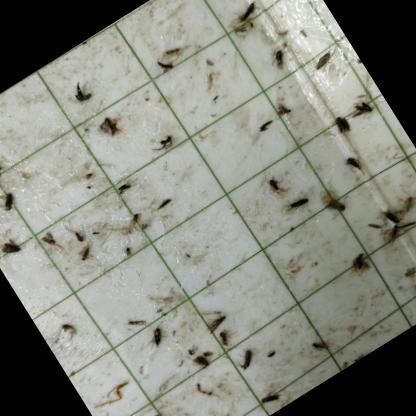prays_oleae: (190, 294, 234, 340), (226, 337, 264, 378), (321, 182, 358, 223), (346, 249, 379, 290), (346, 88, 379, 127), (235, 0, 268, 35), (52, 315, 86, 347), (336, 149, 368, 183), (303, 329, 334, 364), (66, 75, 97, 110), (284, 190, 316, 223), (378, 217, 410, 250), (254, 112, 285, 146), (0, 227, 27, 266), (37, 224, 66, 258), (254, 382, 284, 414), (266, 43, 294, 76), (308, 44, 338, 73), (122, 309, 148, 338), (158, 129, 184, 157), (395, 190, 416, 221), (146, 325, 170, 351), (378, 196, 404, 220), (75, 241, 99, 266), (0, 191, 24, 215), (190, 350, 212, 375), (214, 326, 235, 352), (0, 205, 10, 247), (352, 342, 372, 360), (400, 260, 416, 281), (0, 162, 6, 191), (411, 277, 416, 304)
